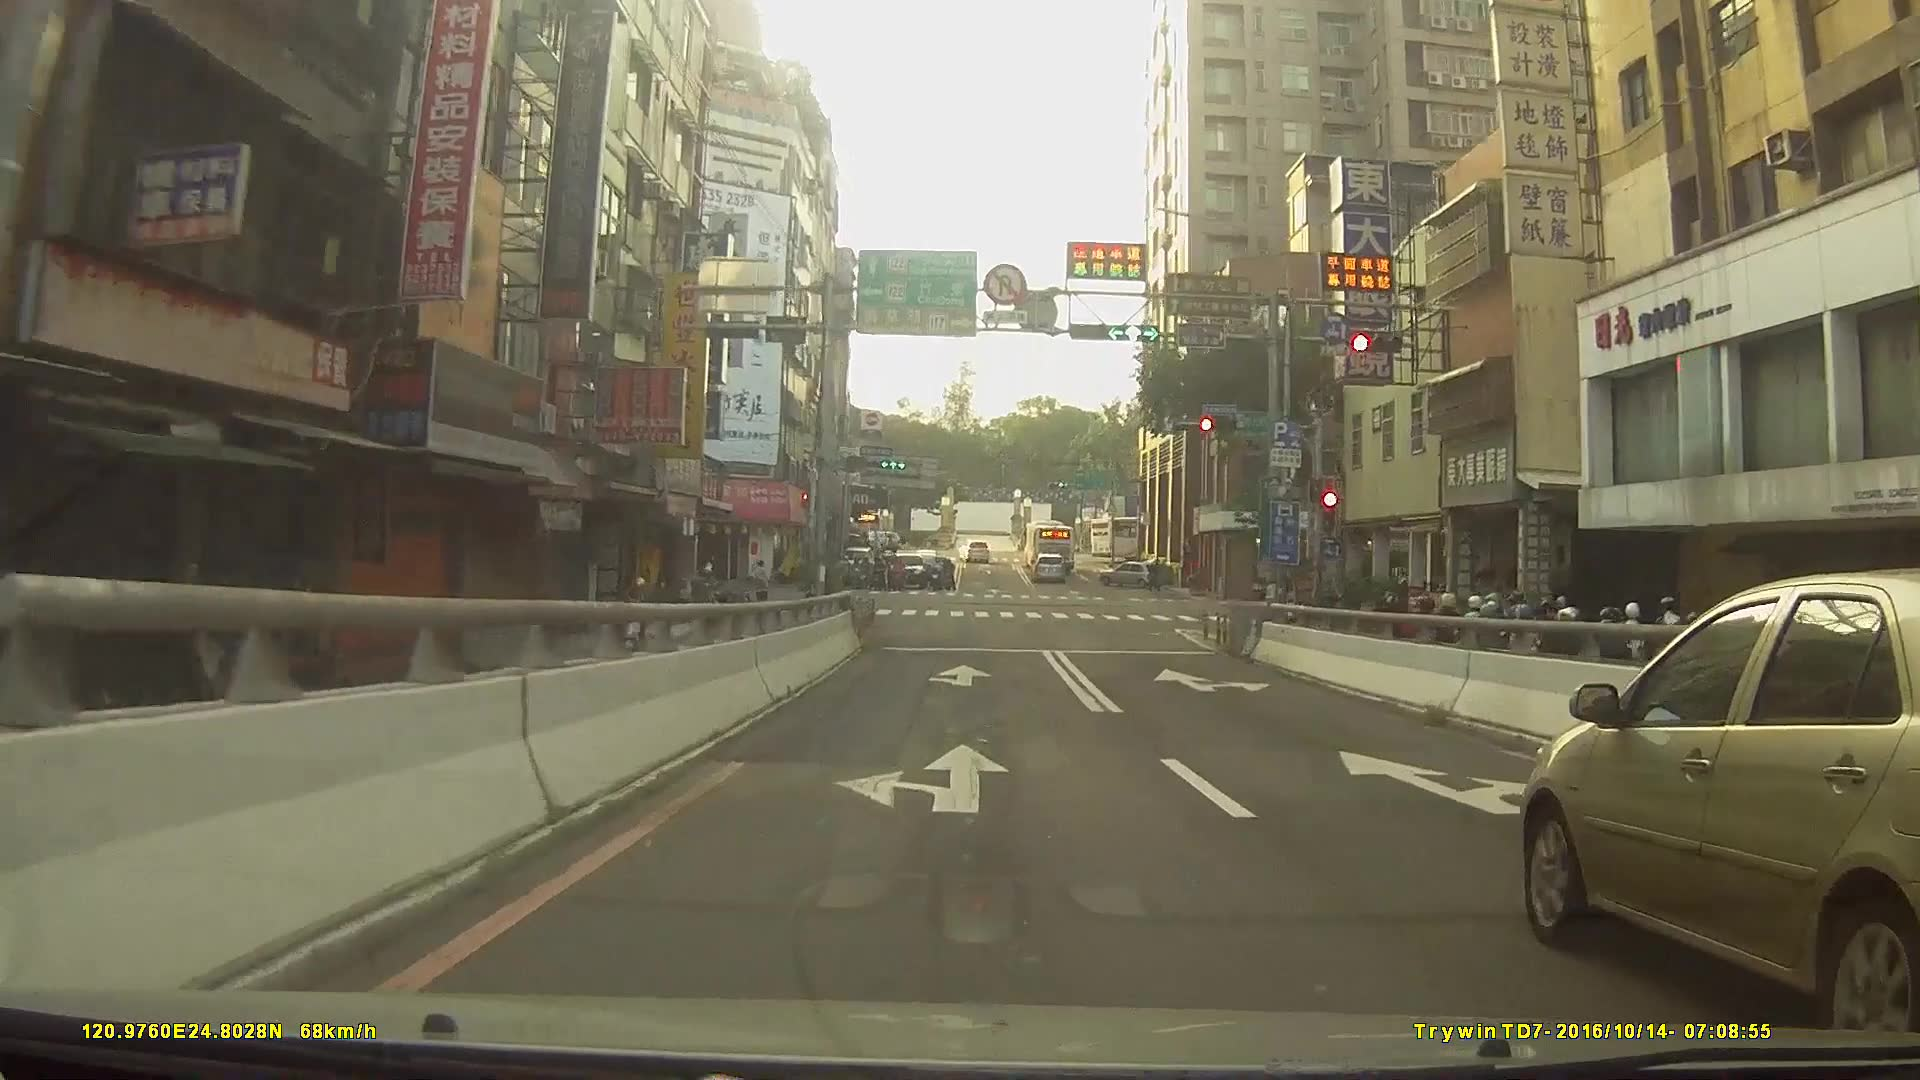rider: (621, 573, 662, 655)
vehicle: (1521, 566, 1920, 1044), (1089, 515, 1172, 562), (1097, 559, 1170, 591), (1026, 518, 1074, 566), (885, 553, 928, 589), (1031, 549, 1067, 581), (859, 526, 904, 549), (954, 537, 989, 562)
